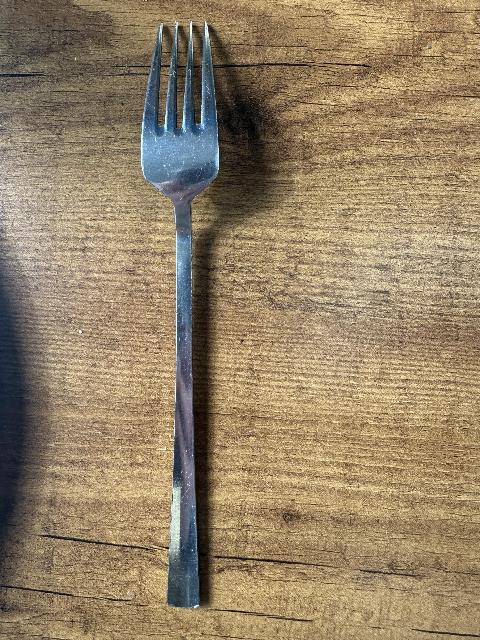Metal: (140, 17, 224, 608)
